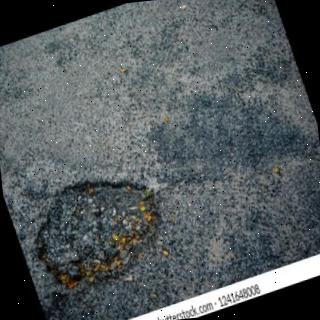pothole: (39, 181, 159, 289)
